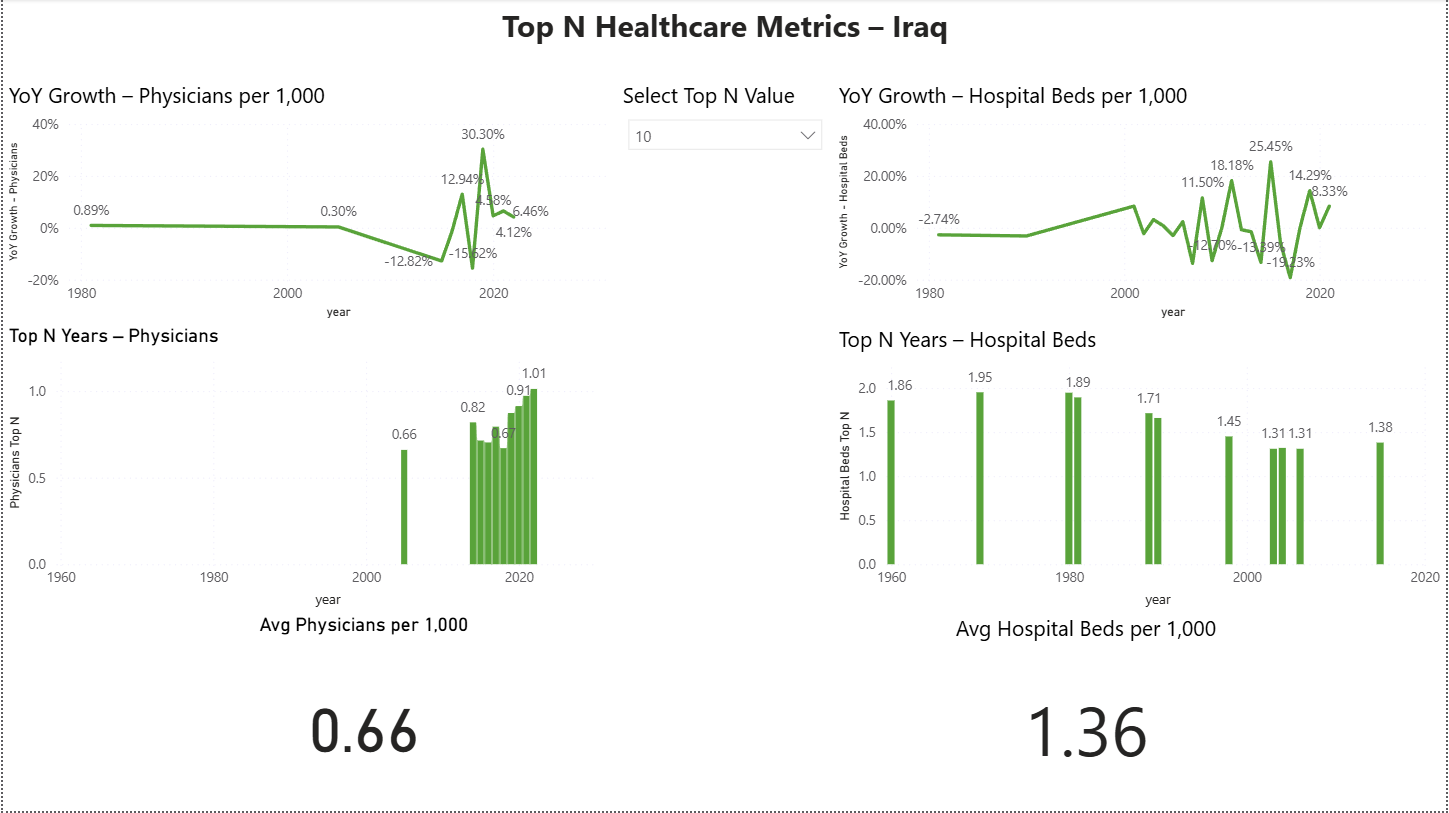

The dashboard page shown, as its layout file describes it:
{"tool":"powerbi","page":{"name":"Top N Insights & Yearly Growth","canvas":[1280,720],"ordinal":1},"visuals":[{"type":"lineChart","title":"YoY Growth – Hospital Beds per 1,000","fields":{"Category":["Physicians + Hospital Beds.year"],"Y":["Physicians + Hospital Beds.YoY Growth - Hospital Beds"]},"box":[736,72,536,216],"z":0},{"type":"lineChart","title":"YoY Growth – Physicians per 1,000","fields":{"Y":["Physicians + Hospital Beds.YoY Growth - Physicians"],"Category":["Physicians + Hospital Beds.year"]},"box":[0,72,544,216],"z":1000},{"type":"card","title":"Avg Hospital Beds per 1,000","fields":{"Values":["Physicians + Hospital Beds.Average Beds"]},"box":[640,544,640,176],"z":2000},{"type":"card","title":"Avg Physicians per 1,000","fields":{"Values":["Physicians + Hospital Beds.Average Physicians"]},"box":[0,544,640,176],"z":3000},{"type":"slicer","title":"Select Top N Value","fields":{"Values":["TopNSelector.Value"]},"box":[544,72,192,216],"z":4000},{"type":"columnChart","title":"Top N Years – Hospital Beds","fields":{"Category":["Physicians + Hospital Beds.year"],"Y":["Physicians + Hospital Beds.Hospital Beds Top N"]},"box":[736,288,544,256],"z":5000},{"type":"columnChart","title":"Top N Years – Physicians","fields":{"Category":["Physicians + Hospital Beds.year"],"Y":["Physicians + Hospital Beds.Physicians Top N"]},"box":[0,288,544,256],"z":6000},{"type":"textbox","box":[404,0,472,48],"z":8000}]}

Visuals, with their boxes in screenshot pixels (x1, y1, x2, y2), scaled from the page's 1280x720 canvas onto the 1449x813 screenshot:
"YoY Growth – Hospital Beds per 1,000" lineChart: region(833, 81, 1440, 325)
"YoY Growth – Physicians per 1,000" lineChart: region(0, 81, 616, 325)
"Avg Hospital Beds per 1,000" card: region(724, 614, 1448, 812)
"Avg Physicians per 1,000" card: region(0, 614, 724, 812)
"Select Top N Value" slicer: region(616, 81, 833, 325)
"Top N Years – Hospital Beds" columnChart: region(833, 325, 1448, 614)
"Top N Years – Physicians" columnChart: region(0, 325, 616, 614)
textbox: region(457, 0, 992, 54)
